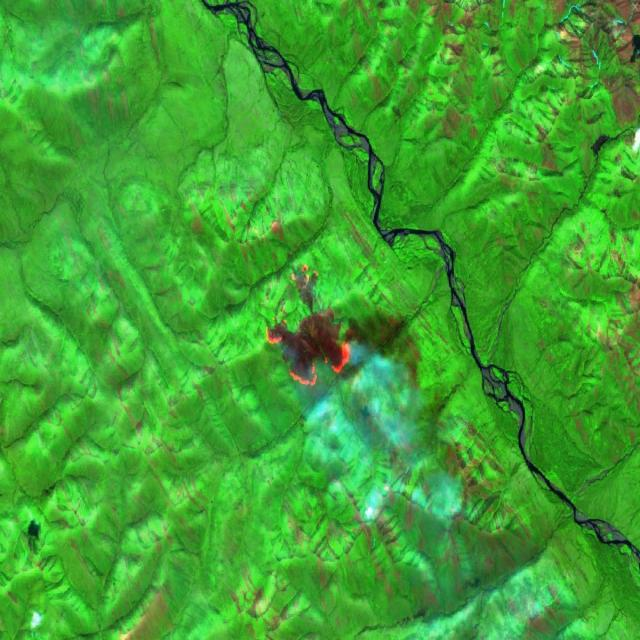fire: (256, 252, 361, 392)
